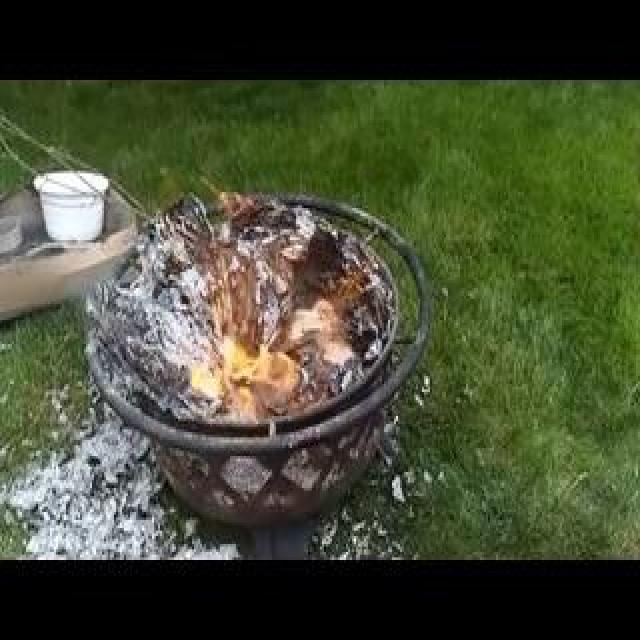Fire: (144, 158, 259, 354)
